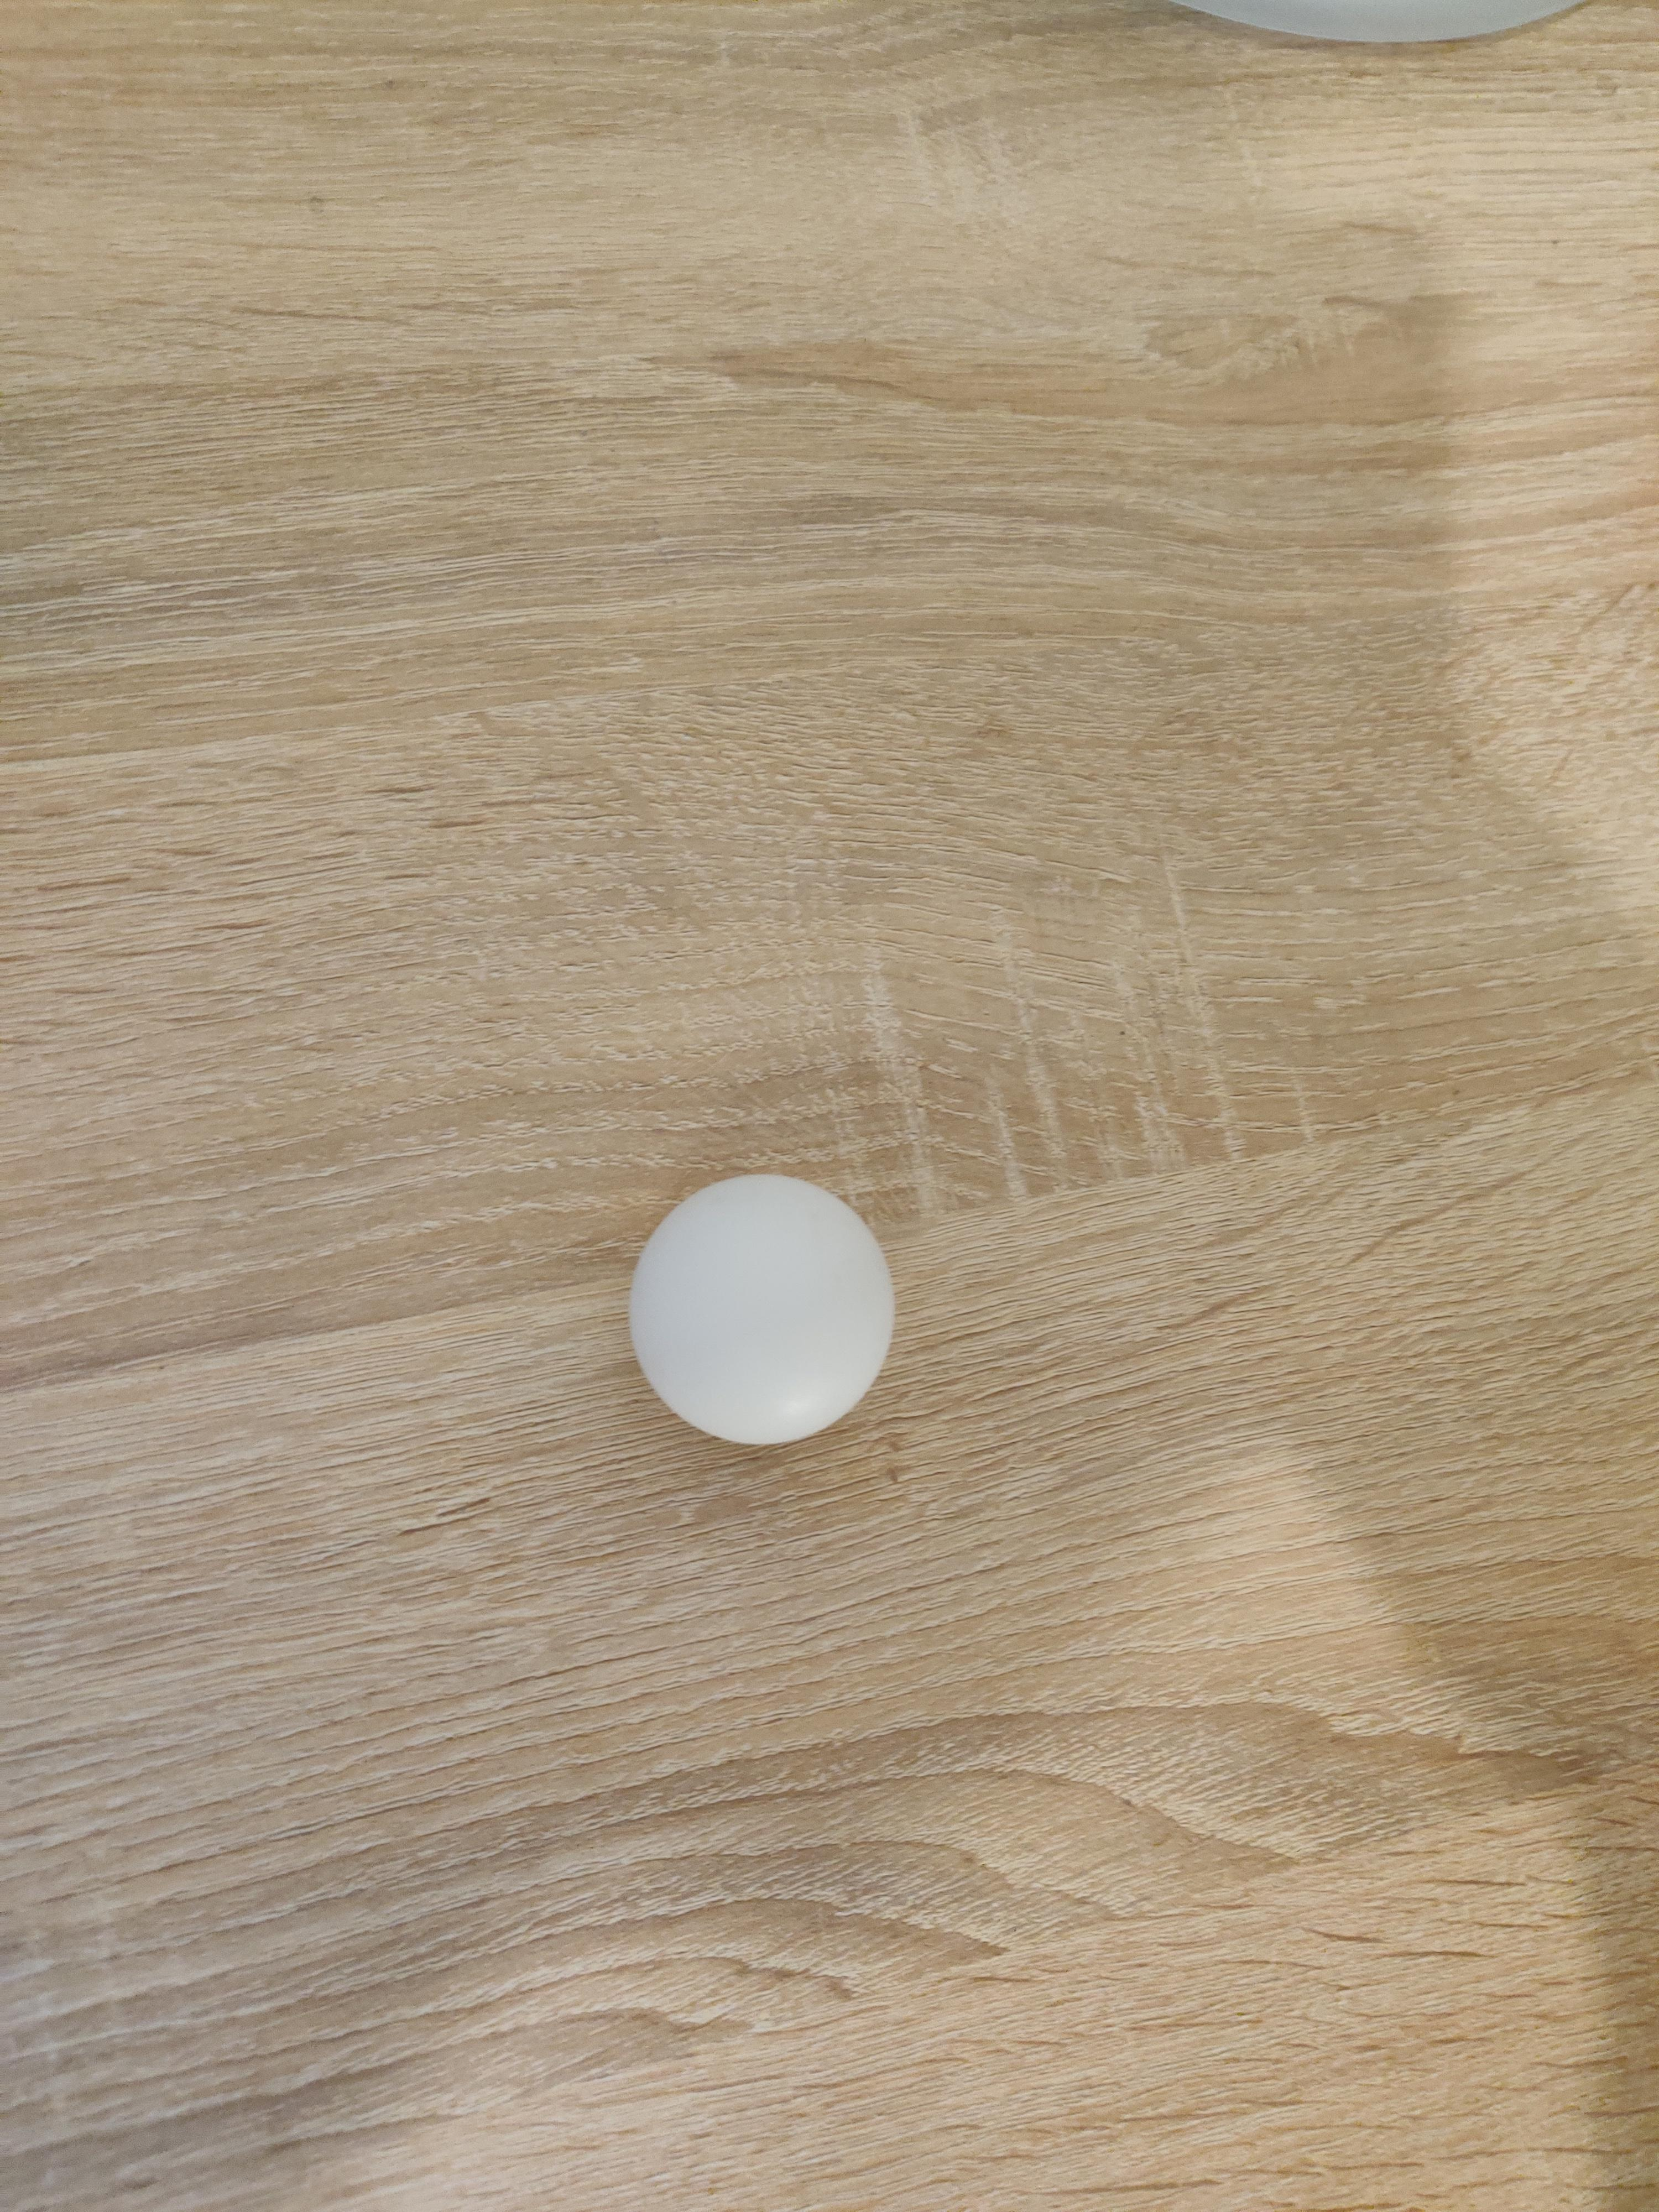white: (624, 1167, 899, 1451)
